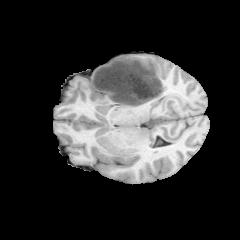glioma: (90, 55, 167, 107)
